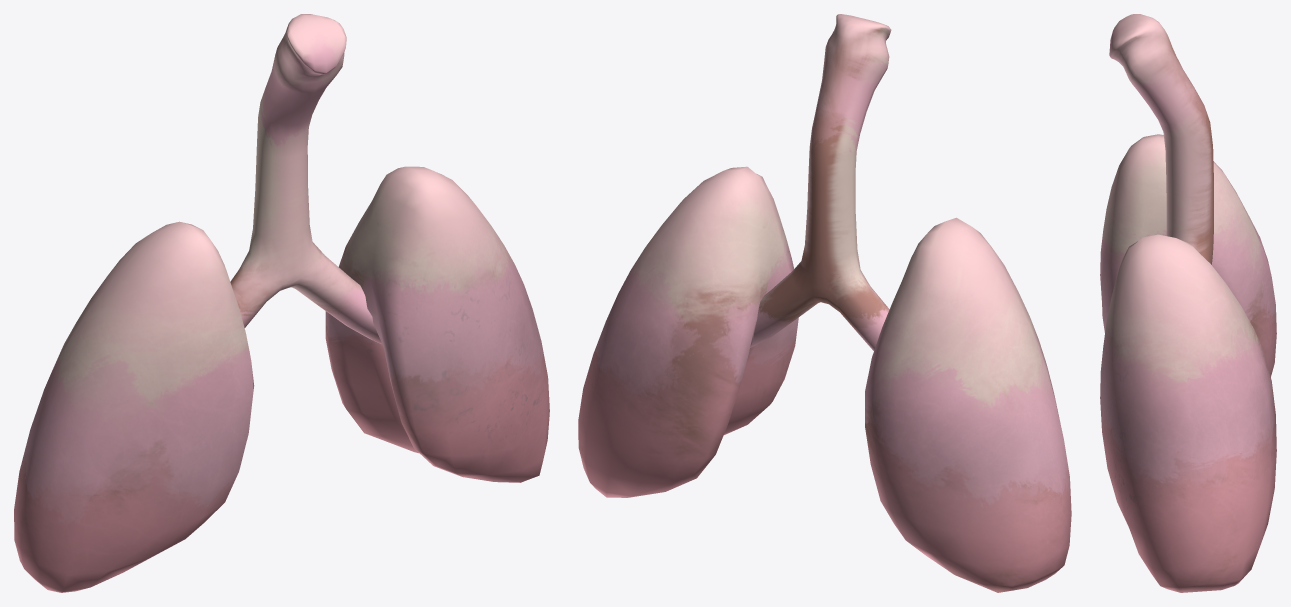
Rendered from poumon_unt.fbx.
3 renders of one model, left to right at view 1: azimuth 30°, elevation 25°; view 2: azimuth 150°, elevation 25°; view 3: azimuth 270°, elevation 25°, orthographic. The views are drawn at different scales.
Visible parts, largest first — view 1: poumon, poumon_tuyaux_; view 2: poumon, poumon_tuyaux_; view 3: poumon, poumon_tuyaux_.
Boxes of the visible parts, x1,y1,x2,y2 form: poumon: (14,166,549,592); poumon_tuyaux_: (230,14,381,343); poumon: (578,166,1071,592); poumon_tuyaux_: (750,14,891,350); poumon: (1100,134,1276,592); poumon_tuyaux_: (1109,14,1213,264).
Size of the model in its own units: 4.75 by 4.7 by 1.59.
